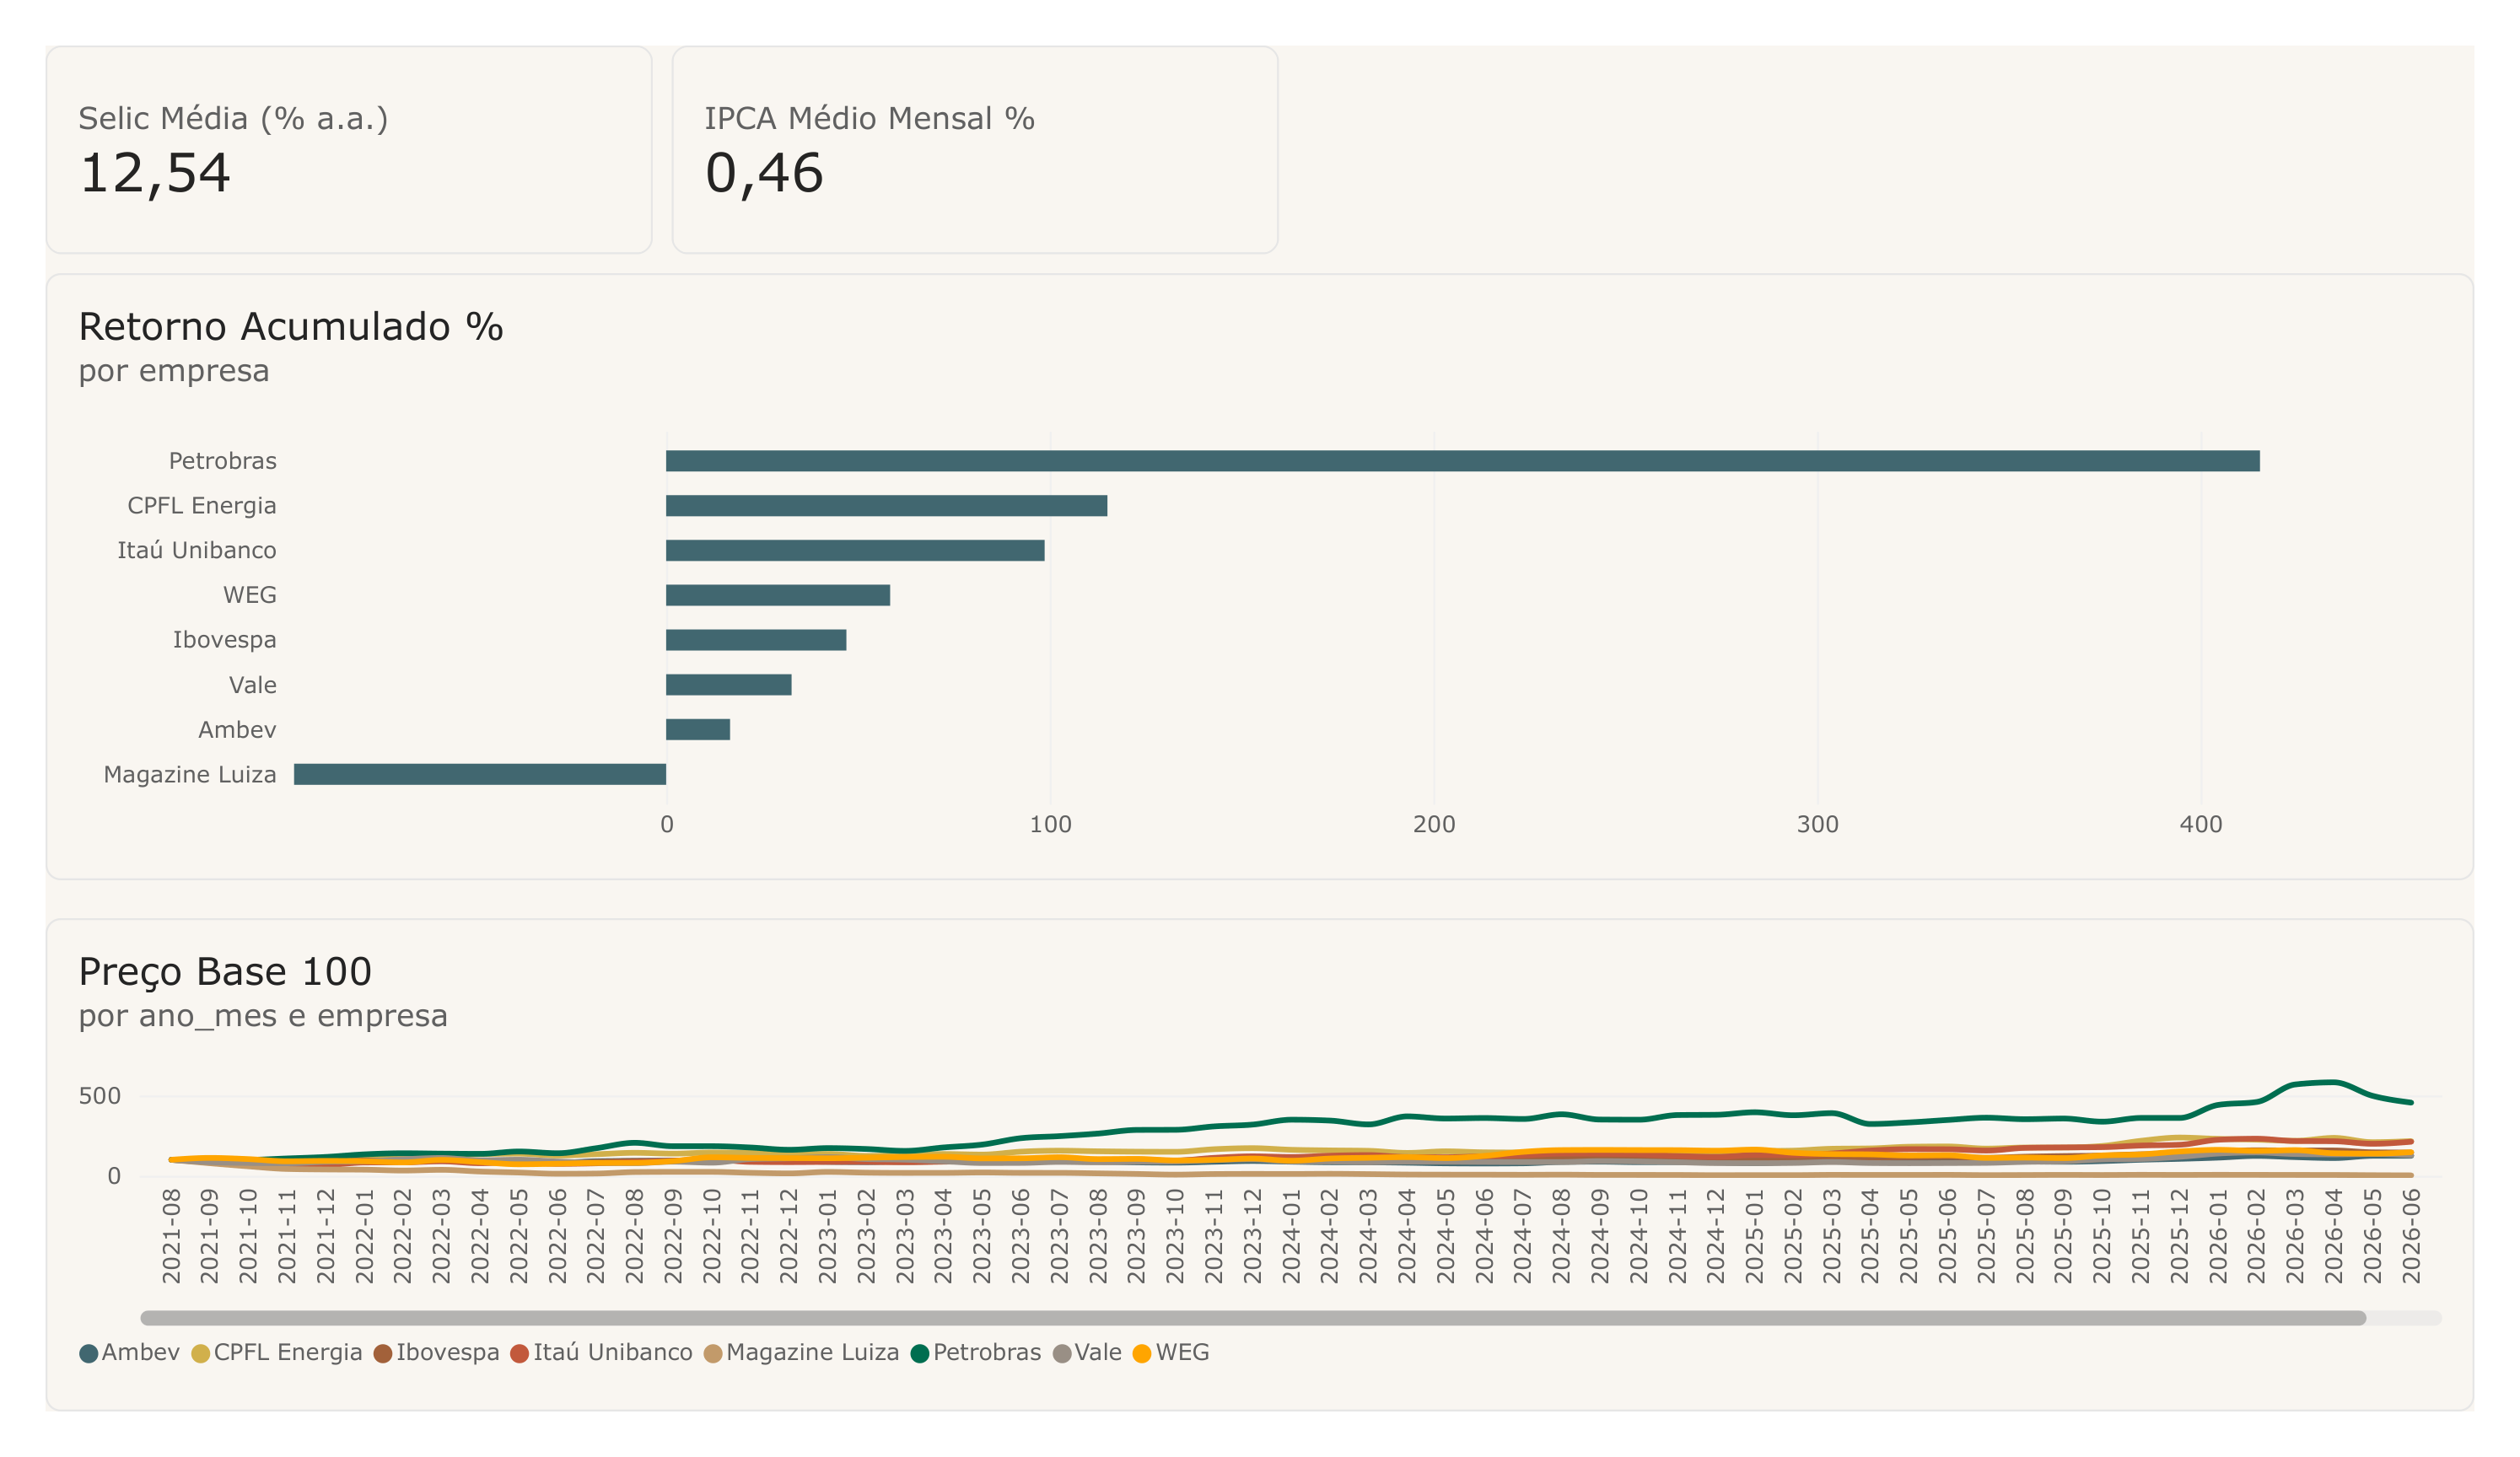

The dashboard page shown, as its layout file describes it:
{"tool":"powerbi","page":{"name":"Visão Geral","canvas":[1280,720],"ordinal":0},"visuals":[{"type":"cardVisual","fields":{"Data":["fato_retornos.Selic Média (% a.a.)"]},"box":[0,0,320,110],"z":0},{"type":"cardVisual","fields":{"Data":["fato_retornos.IPCA Médio Mensal %"]},"box":[330,0,320,110],"z":1000},{"type":"clusteredBarChart","fields":{"Category":["dim_ativos.empresa"],"Y":["fato_retornos.Retorno Acumulado %"]},"box":[0,120,1280,320],"z":1001},{"type":"lineChart","fields":{"Category":["dim_datas.ano_mes"],"Series":["dim_ativos.empresa"],"Y":["fato_retornos.Preço Base 100"]},"box":[0,460,1280,260],"z":1002}]}

Visuals, with their boxes in screenshot pixels (x1, y1, x2, y2), scaled from the page's 1280x720 canvas onto the 2520x1457 screenshot:
cardVisual - fato_retornos.Selic Média (% a.a.): box(0, 0, 630, 223)
cardVisual - fato_retornos.IPCA Médio Mensal %: box(649, 0, 1279, 223)
clusteredBarChart - dim_ativos.empresa x fato_retornos.Retorno Acumulado %: box(0, 243, 2519, 890)
lineChart - dim_datas.ano_mes x dim_ativos.empresa: box(0, 931, 2519, 1456)
